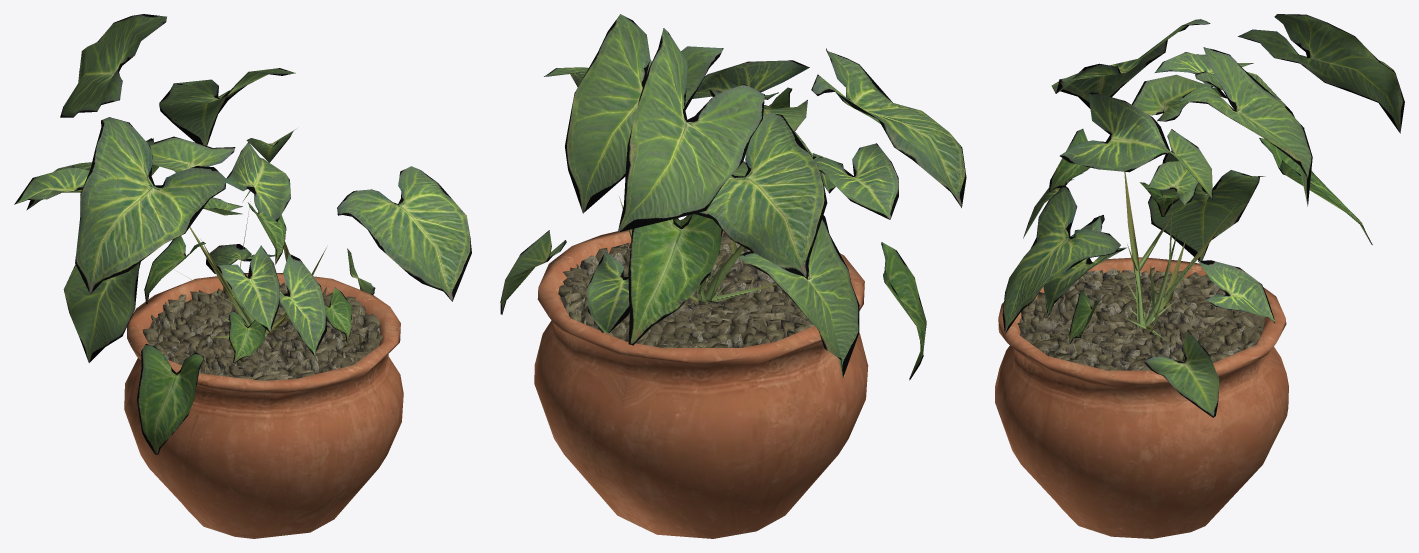
The model's file is potted_plant.glb.
The picture shows the model from 3 angles, left to right: view 1: azimuth 30°, elevation 25°; view 2: azimuth 150°, elevation 25°; view 3: azimuth 270°, elevation 25°; orthographic projection. The views are drawn at different scales.
Parts seen in each view (by area): view 1: potted_plant_02_leaves, potted_plant_02_pot; view 2: potted_plant_02_leaves, potted_plant_02_pot; view 3: potted_plant_02_pot, potted_plant_02_leaves.
Part boxes in pixels (<box>): potted_plant_02_leaves: <box>14,14,471,454</box>; potted_plant_02_pot: <box>124,273,403,538</box>; potted_plant_02_leaves: <box>500,14,966,380</box>; potted_plant_02_pot: <box>534,229,868,538</box>; potted_plant_02_pot: <box>995,257,1288,538</box>; potted_plant_02_leaves: <box>1002,14,1404,417</box>.
Bounding box in the file's own units: 0.7009 × 0.8395 × 0.6554.
Materials: 2 (2 with a texture image).
